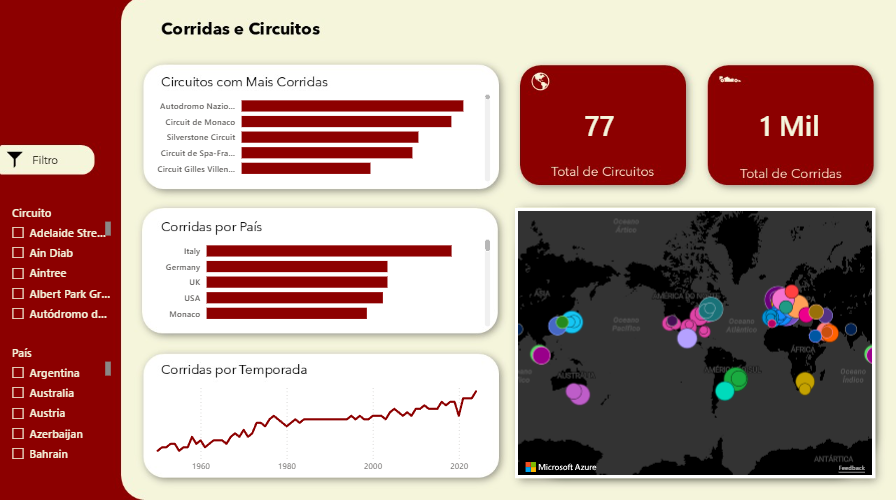

What the dashboard file says about the page in this screenshot:
{"tool":"powerbi","page":{"name":"Corridas e Circuitos","canvas":[1280,720],"ordinal":3},"visuals":[{"type":"cardVisual","fields":{"Data":["FactResults.Total Corridas"]},"box":[1055.6,133.9,145.3,91.8],"z":0},{"type":"cardVisual","fields":{"Data":["FactResults.Total Circuitos"]},"box":[804.5,144.1,104.5,71.4],"z":1000},{"type":"lineChart","fields":{"Category":["DimRace.year"],"Y":["FactResults.Total Corridas"]},"box":[207.8,543.1,527.8,144.1],"z":4000},{"type":"barChart","fields":{"Category":["DimCircuit.country"],"Y":["FactResults.Total Corridas"]},"box":[207.8,331.5,498.5,142.8],"z":5000},{"type":"barChart","fields":{"Category":["DimCircuit.name"],"Y":["FactResults.Total Corridas"]},"box":[207.8,123.7,498.5,142.8],"z":6000},{"type":"azureMap","fields":{"Series":["DimCircuit.country"],"Size":["FactResults.Total Corridas"],"X":["DimCircuit.lng"],"Y":["DimCircuit.lat"]},"box":[735,300,515,386.2],"z":7000},{"type":"slicer","fields":{"Values":["DimCircuit.name"]},"box":[4.3,291.4,158.6,182.9],"z":9000},{"type":"slicer","fields":{"Values":["DimCircuit.country"]},"box":[4.3,491.4,158.6,175.7],"z":10000}]}

Visuals, with their boxes in screenshot pixels (x1, y1, x2, y2), scaled from the page's 1280x720 canvas onto the 896x500 screenshot:
cardVisual - FactResults.Total Corridas: Rect(739, 93, 841, 157)
cardVisual - FactResults.Total Circuitos: Rect(563, 100, 636, 150)
lineChart - DimRace.year x FactResults.Total Corridas: Rect(145, 377, 515, 477)
barChart - DimCircuit.country x FactResults.Total Corridas: Rect(145, 230, 494, 329)
barChart - DimCircuit.name x FactResults.Total Corridas: Rect(145, 86, 494, 185)
azureMap - DimCircuit.country x FactResults.Total Corridas: Rect(514, 208, 875, 477)
slicer - DimCircuit.name: Rect(3, 202, 114, 329)
slicer - DimCircuit.country: Rect(3, 341, 114, 463)
